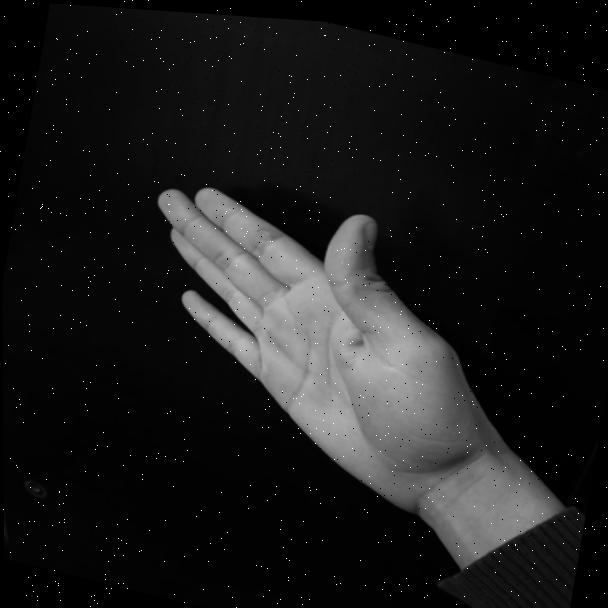five: (116, 154, 484, 451)
